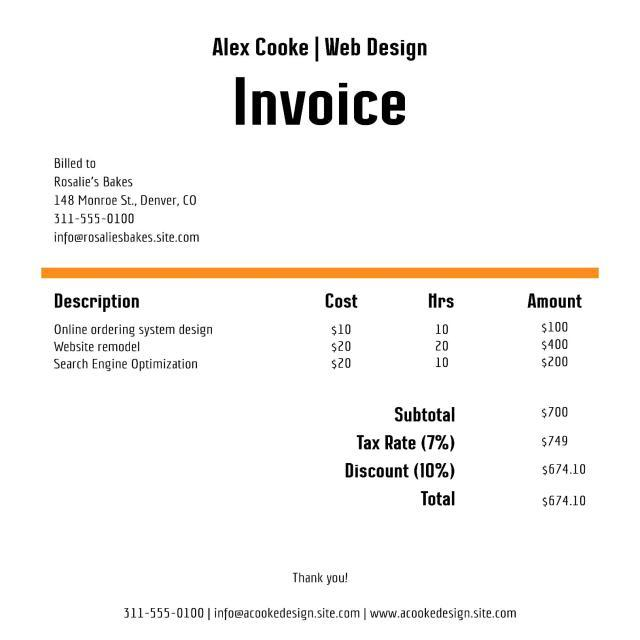ROI: (39, 280, 596, 378), (340, 394, 596, 512), (196, 26, 452, 138), (40, 150, 216, 256), (114, 596, 541, 628), (278, 566, 360, 588)
